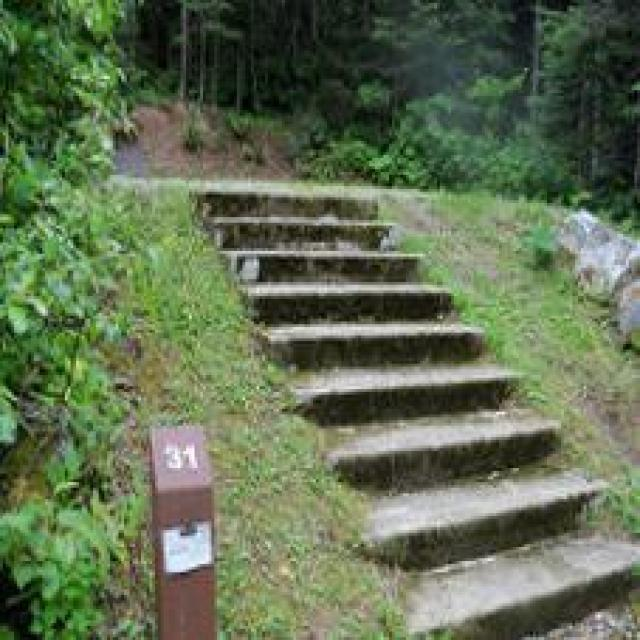upstair: (210, 199, 638, 639)
